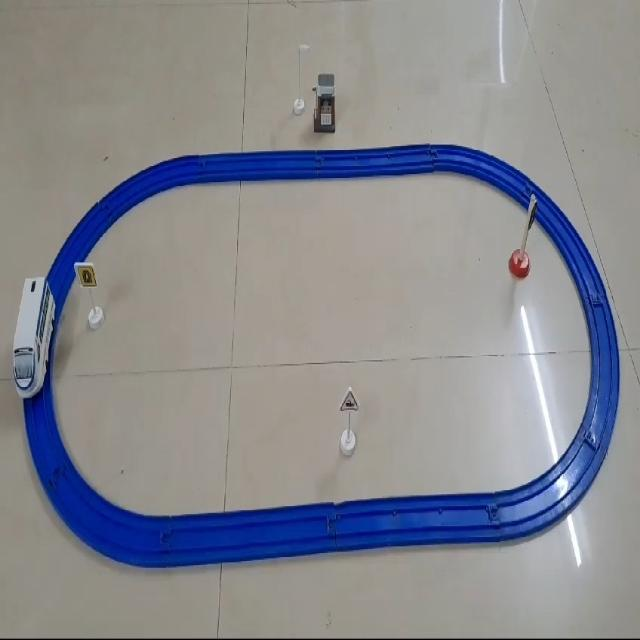bus: (11, 274, 56, 399)
